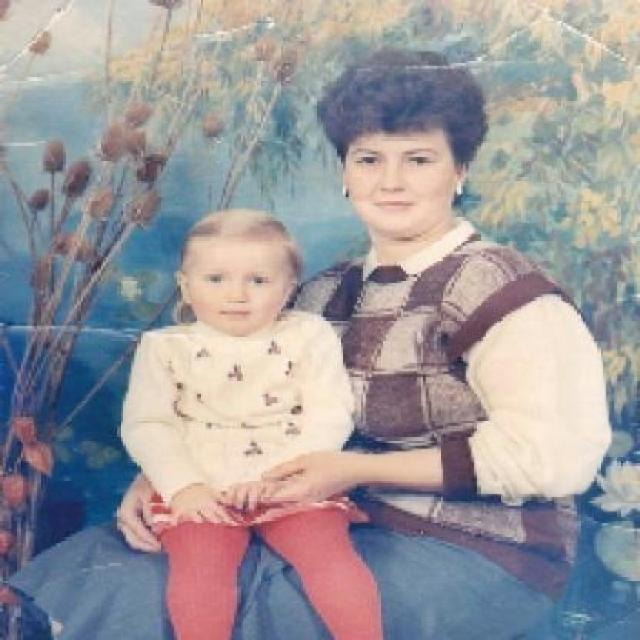child: (117, 208, 386, 638)
